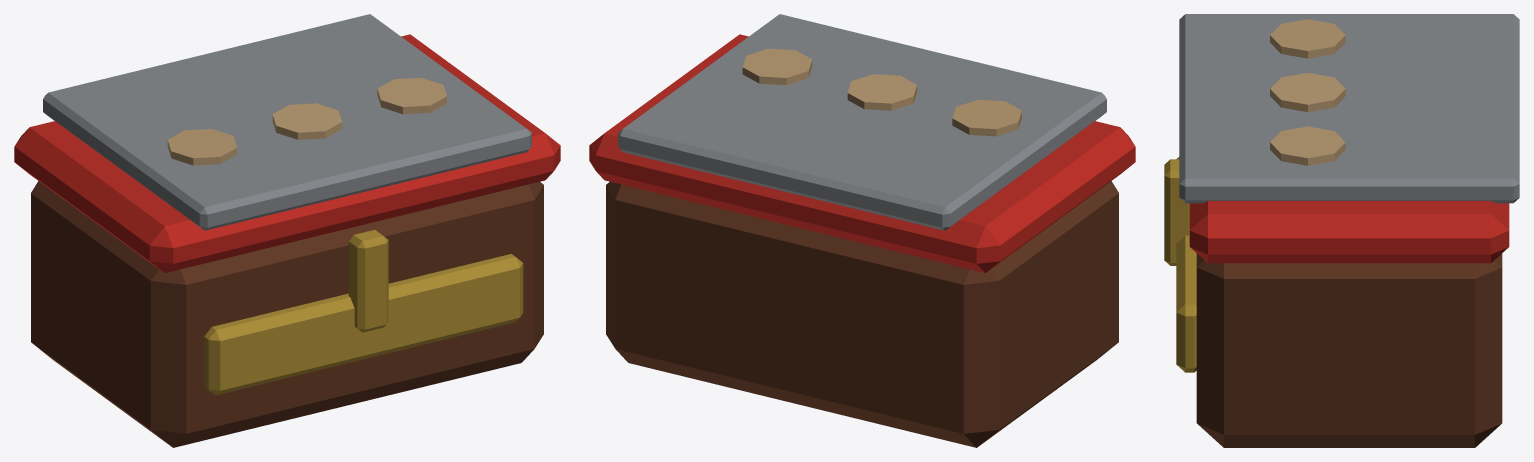
File: ammo_box_shell.fbx
The picture shows the model from 3 angles, left to right: view 1: azimuth 30°, elevation 25°; view 2: azimuth 150°, elevation 25°; view 3: azimuth 270°, elevation 25°; orthographic projection. The views are drawn at different scales.
Parts seen in each view (by area): view 1: ammo_box_shell; view 2: ammo_box_shell; view 3: ammo_box_shell.
Part boxes in pixels (x1=…): ammo_box_shell: x1=14, y1=14, x2=560, y2=447; ammo_box_shell: x1=589, y1=14, x2=1135, y2=447; ammo_box_shell: x1=1164, y1=14, x2=1519, y2=447.
Bounding box in the file's own units: 0.329 × 0.1975 × 0.2354.
